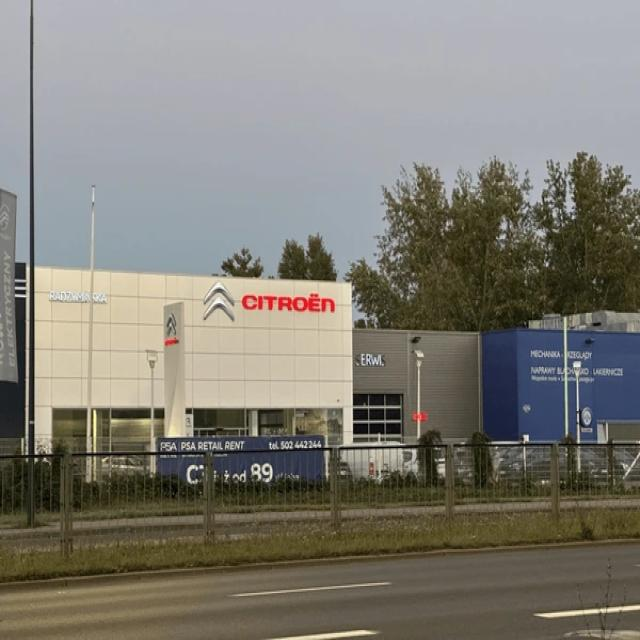citroen: (202, 281, 238, 322)
